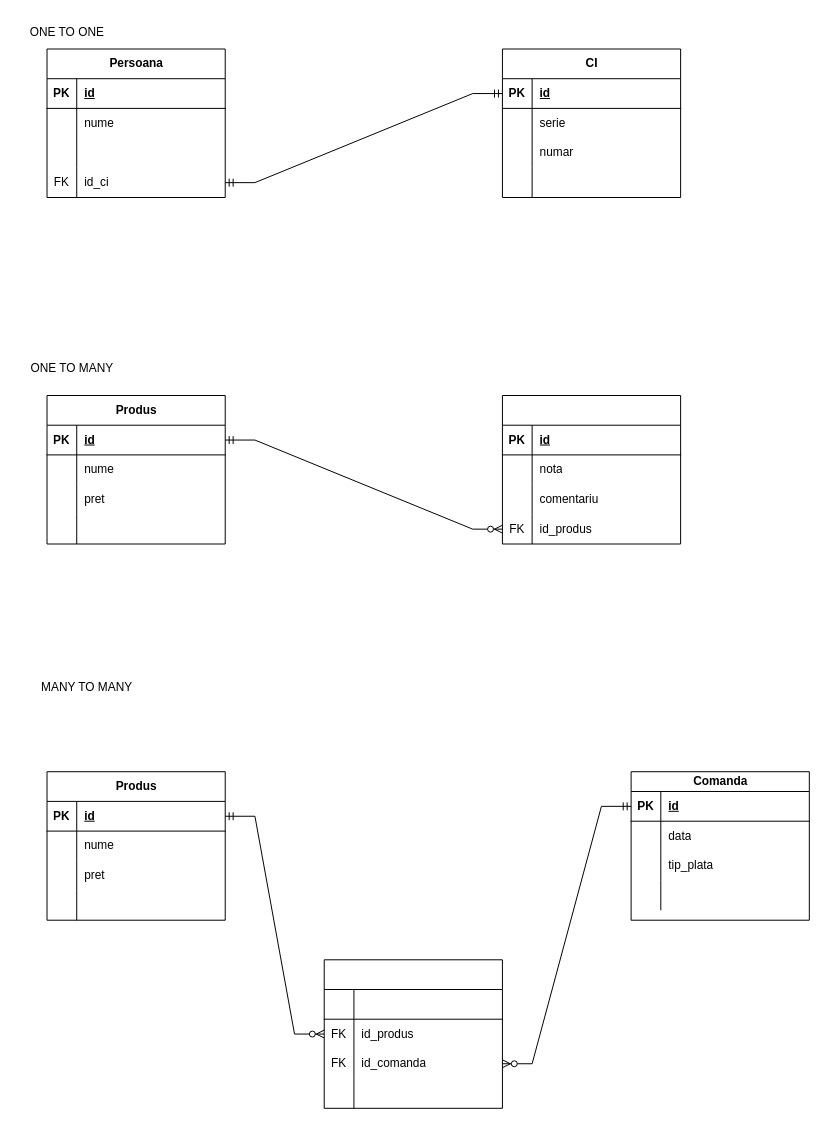
Some shapes in this 827 by 1126 pixel diagram are drawn without their labels. Here are the shapes that lost their labels. From the top down, the box of each, then its label:
(501, 395, 681, 544): Review
(323, 959, 502, 1108): Factura
